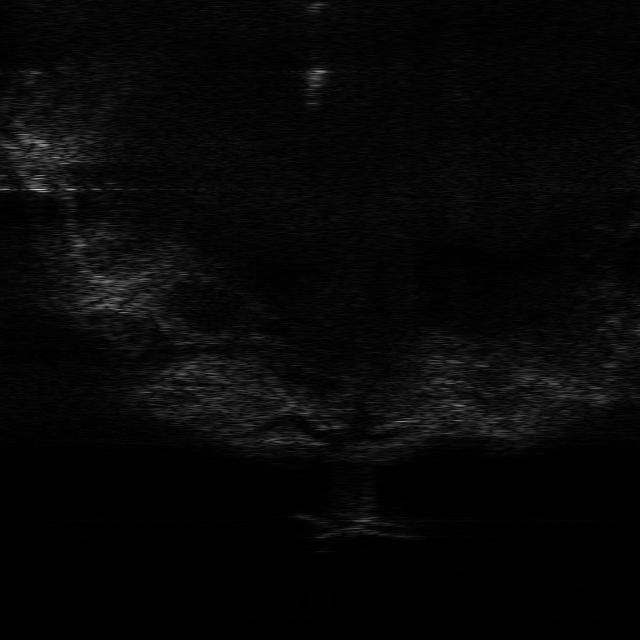plane: (296, 505, 419, 540)
